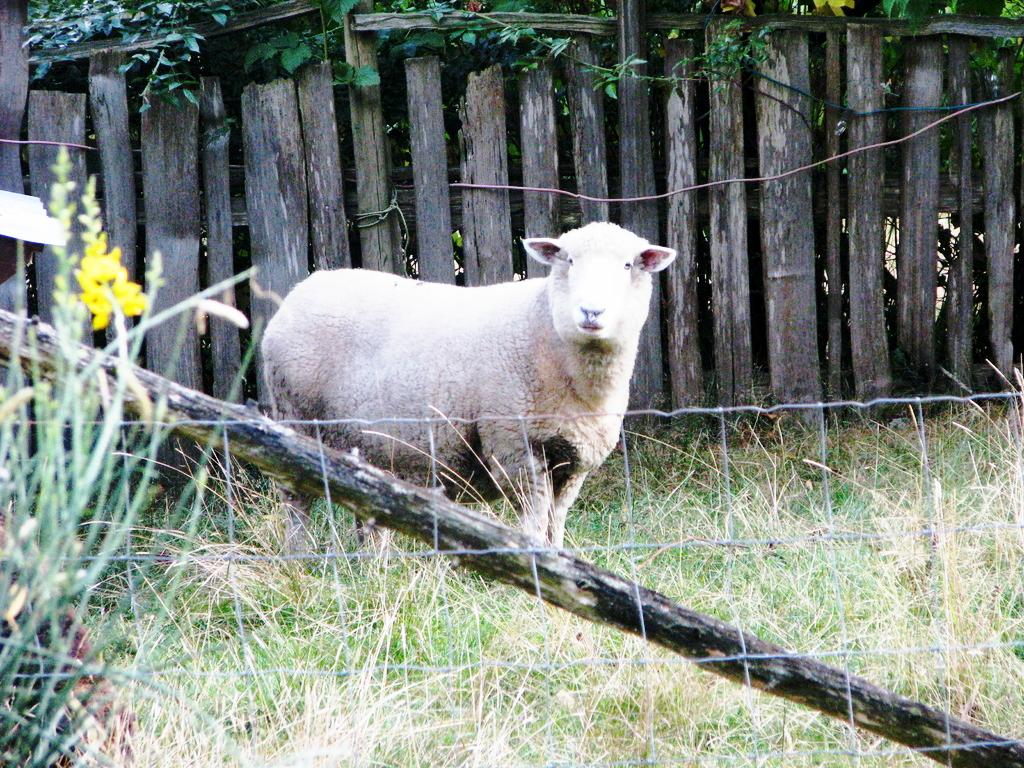Sheep: (263, 222, 675, 566)
